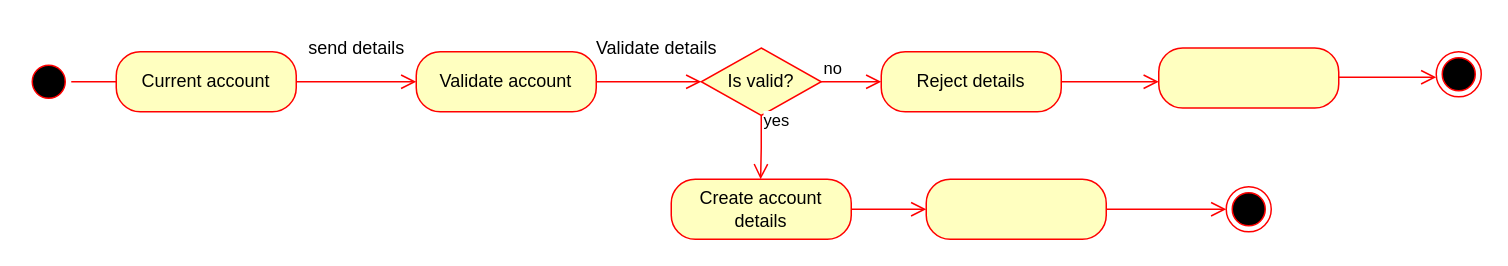
The diagram is 1508 pixels wide and 266 high, and some of its shapes have lost their labels. The centre of each missing label's shape, as x and y in pixels:
"confirm user" goes at point 1015,208.
"Current user" goes at point 1248,77.
